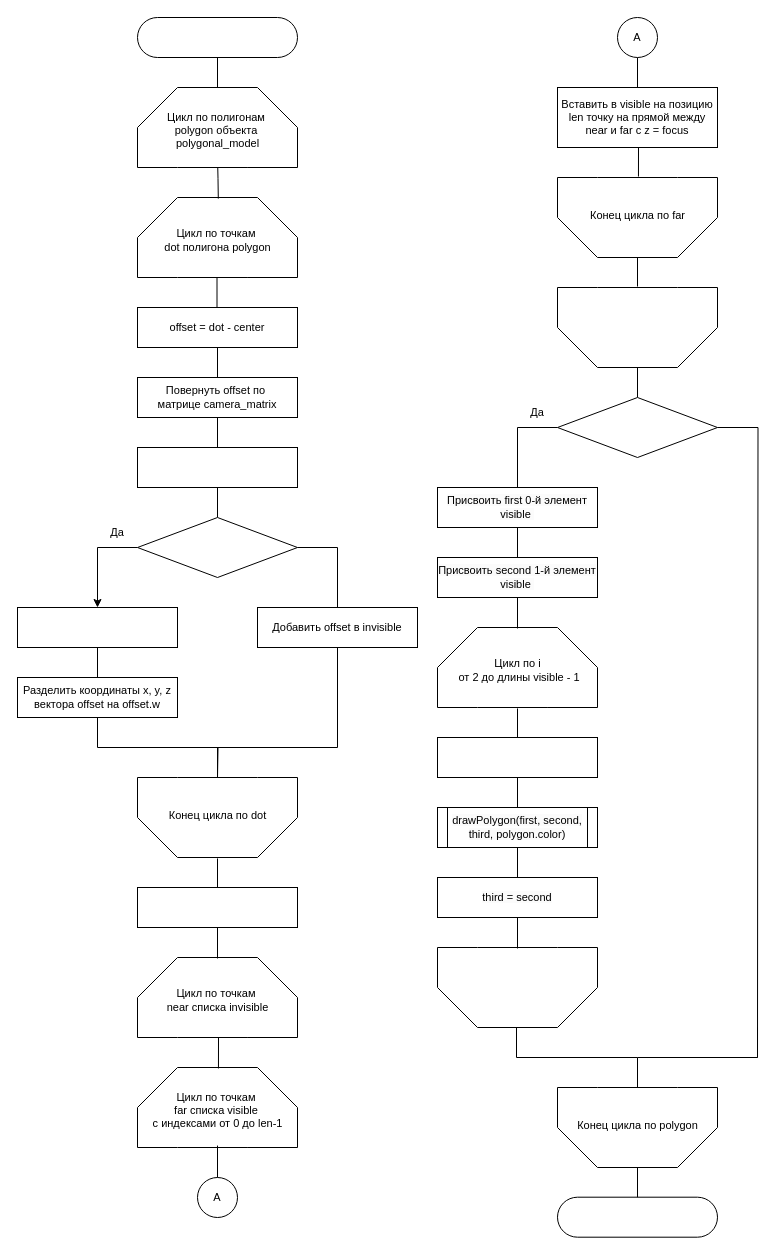
Some shapes in this 777 by 1255 pixel diagram are drawn without their labels. Each missing label, with the centre of its shape:
offset.z >= focus: (x=217, y=547)
В visible больше 2 элементов: (x=637, y=427)
Добавить offset в visible: (x=97, y=627)
Конец: (x=637, y=1216)
Конец цикла по i: (x=517, y=947)
Конец цикла по near: (x=637, y=287)
Начало: (x=217, y=37)
Повернуть offset по матрице frustum_matrix: (x=217, y=467)
Присвоить len количество элементов в visible: (x=217, y=907)
Присвоить third i-й элемент visible: (x=517, y=757)
